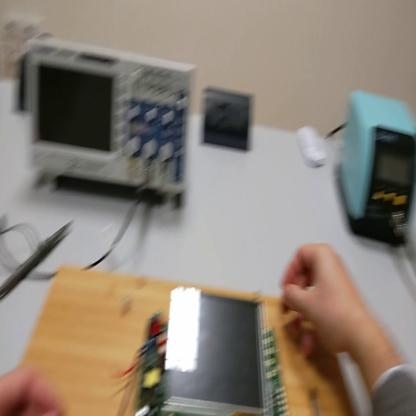hand: (279, 242, 360, 354), (2, 366, 66, 415)
low voltage board: (113, 281, 305, 415)
oscilloscope: (26, 28, 194, 217)
oscilloscope probe tip: (3, 218, 73, 302)
socket: (17, 55, 27, 112)
welder station: (341, 92, 416, 245)
working area: (24, 266, 355, 414)
